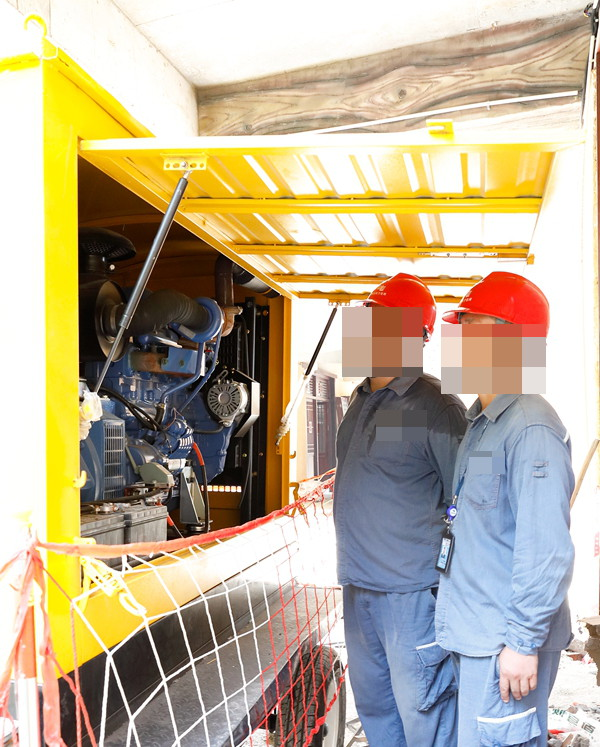downsuit: (342, 598, 460, 747)
halt: (447, 270, 552, 390), (354, 273, 437, 375)
hand: (492, 646, 541, 704)
inear: (471, 323, 524, 379), (373, 313, 426, 369)
person: (432, 268, 583, 746), (318, 264, 466, 747)
upsuit: (428, 392, 577, 661), (330, 382, 455, 591)
